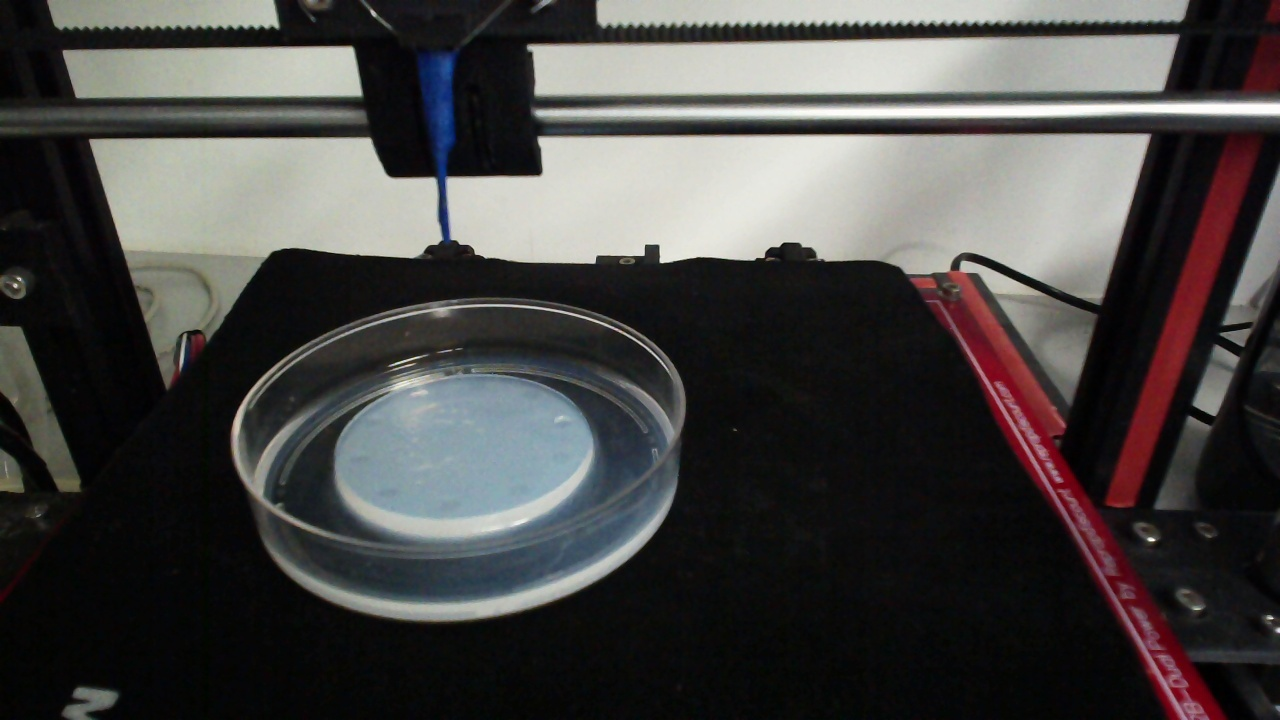groove: (552, 414, 575, 431), (435, 498, 461, 513), (510, 481, 535, 496), (551, 451, 575, 466), (349, 450, 372, 465), (375, 485, 397, 500), (364, 414, 384, 428), (466, 380, 487, 393), (521, 387, 540, 401), (409, 389, 428, 401)
needle: (419, 51, 453, 246)
